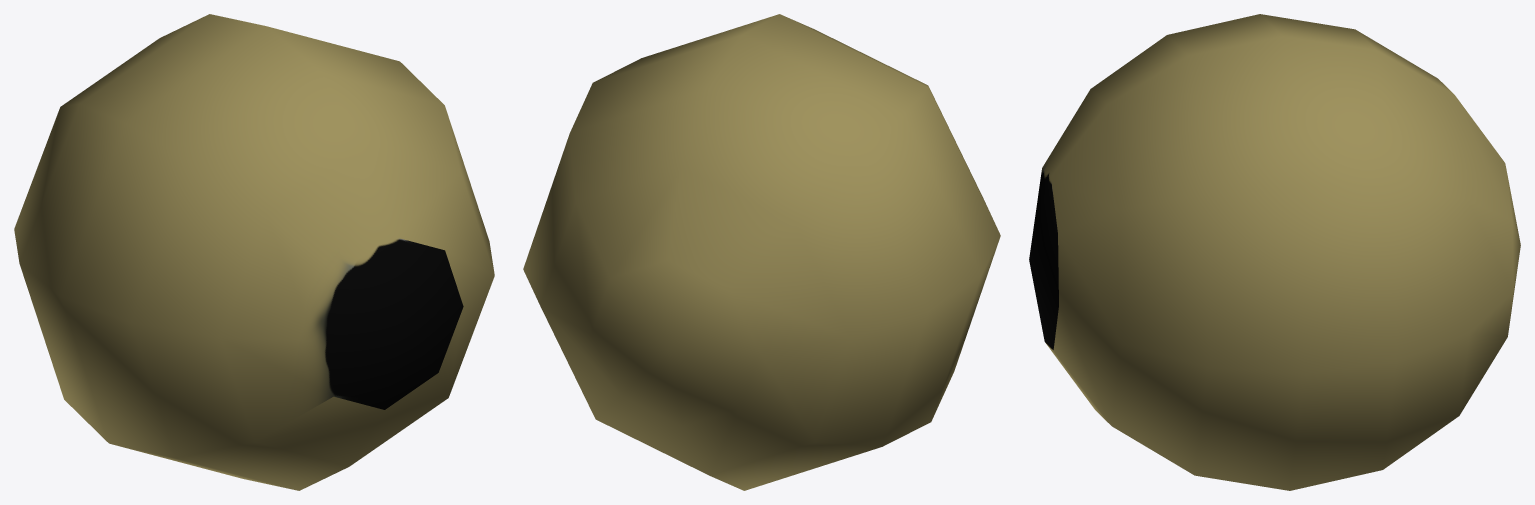
File: snakeEyes.obj
3 views of the same model, side by side, from view 1: azimuth 30°, elevation 25°; view 2: azimuth 150°, elevation 25°; view 3: azimuth 270°, elevation 25° (orthographic). The views are drawn at different scales.
Bounding box in the file's own units: 0.147 × 0.148 × 0.1473.
